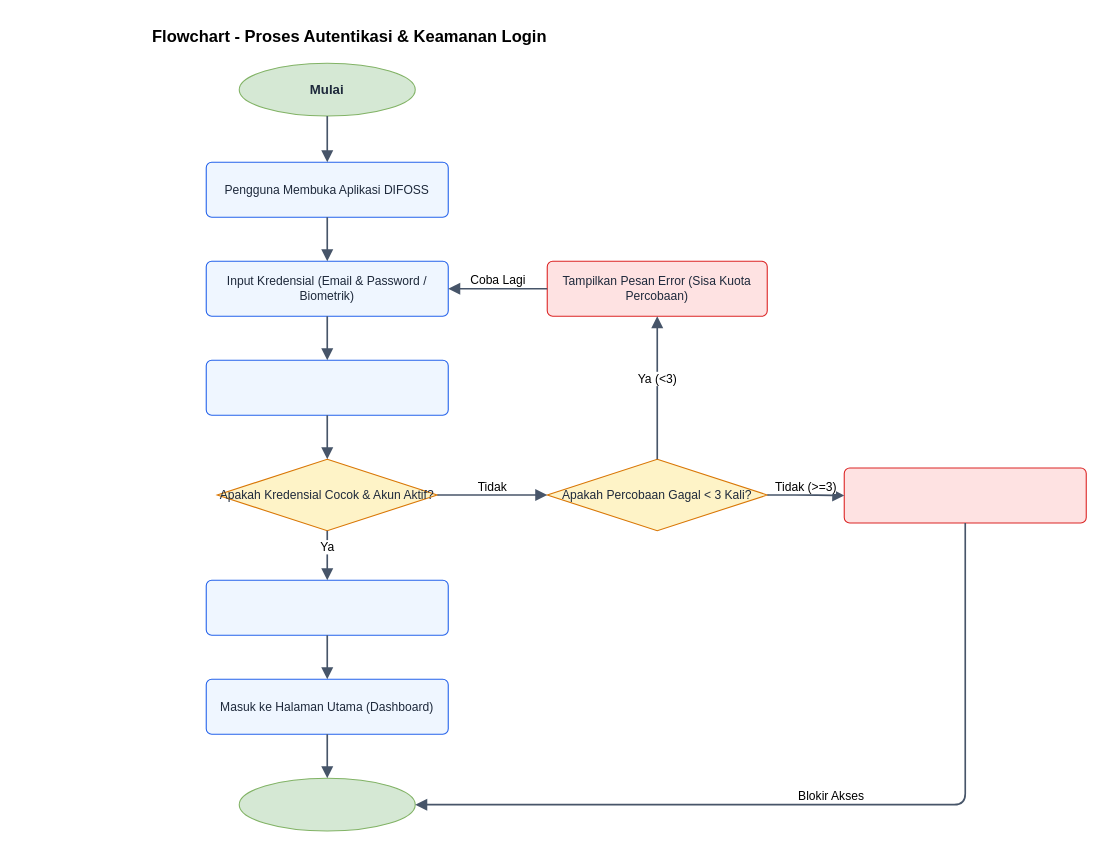
This 1106x850 diagram has some shape labels left out. Each missing label, with the box of its shape:
Kunci Akun Sementara (15 Menit) & Notifikasi Security: (843, 467, 1086, 523)
Reset Percobaan Gagal, Terbitkan Token JWT & Log: (205, 579, 448, 635)
Selesai: (238, 777, 415, 831)
Verifikasi Kredensial & Status Akun ke Server: (205, 359, 448, 415)
